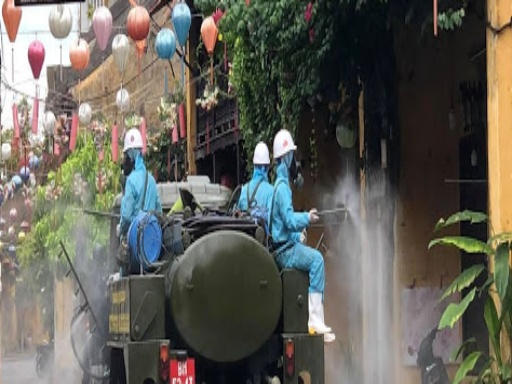plate: (167, 356, 196, 382)
